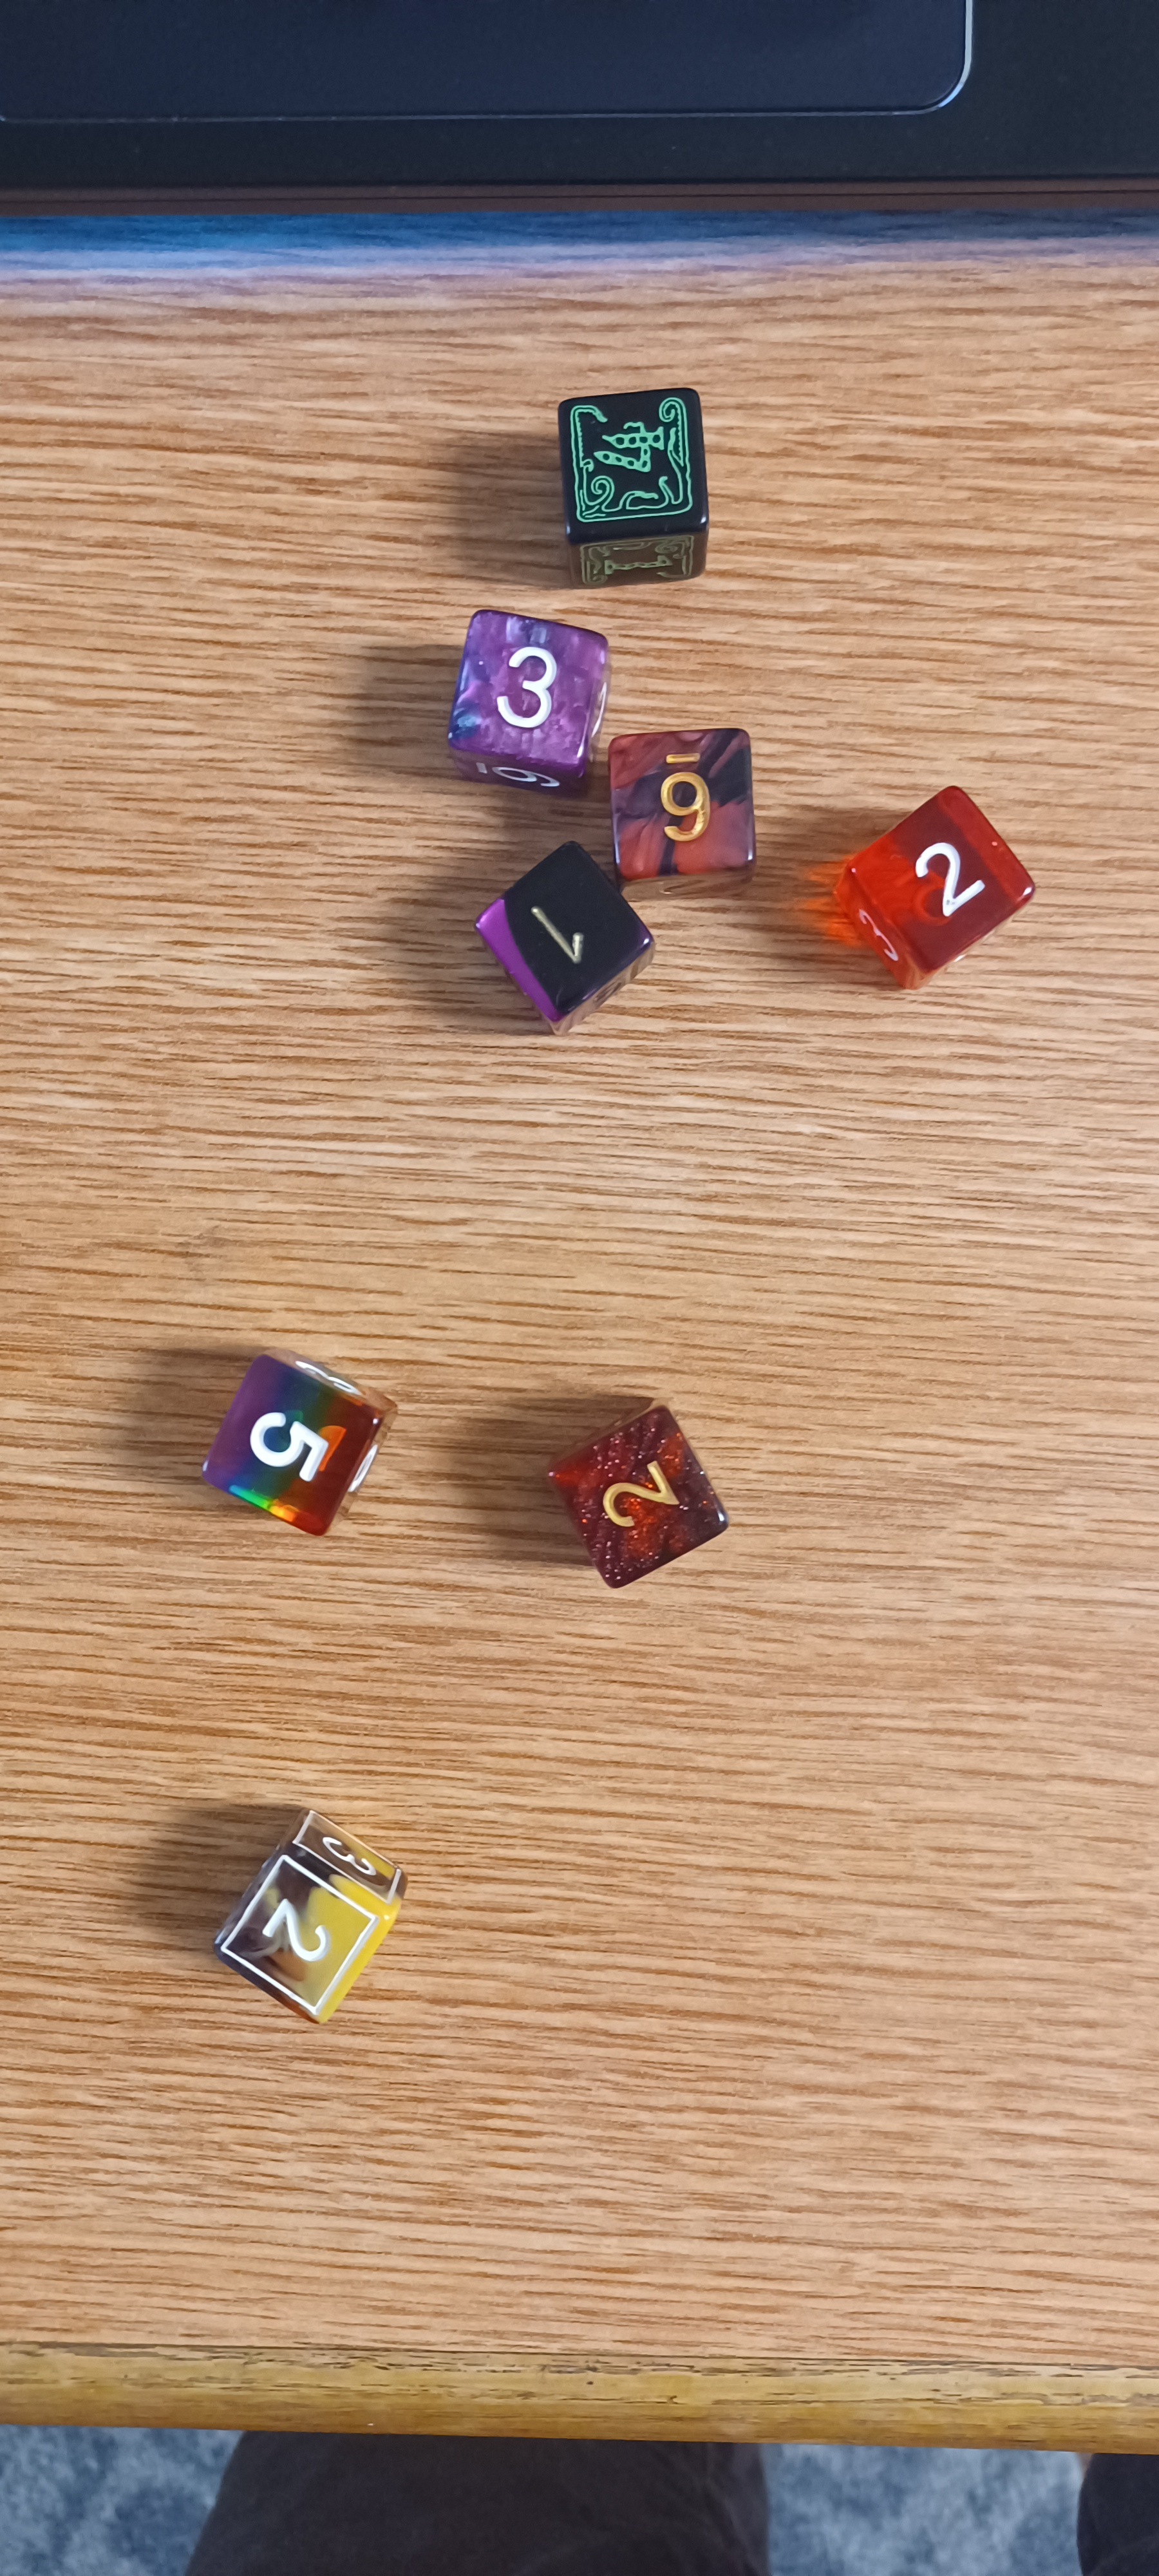five: (177, 1327, 407, 1576)
four: (525, 371, 745, 588)
one: (448, 835, 667, 1046)
six: (583, 701, 783, 931)
three: (432, 570, 629, 808)
two: (133, 1771, 479, 2067), (804, 775, 1062, 994), (519, 1365, 735, 1610)
